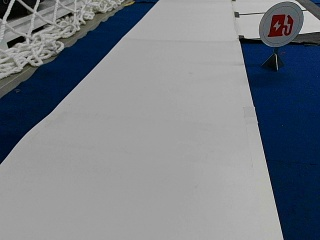battery: (258, 0, 303, 47)
